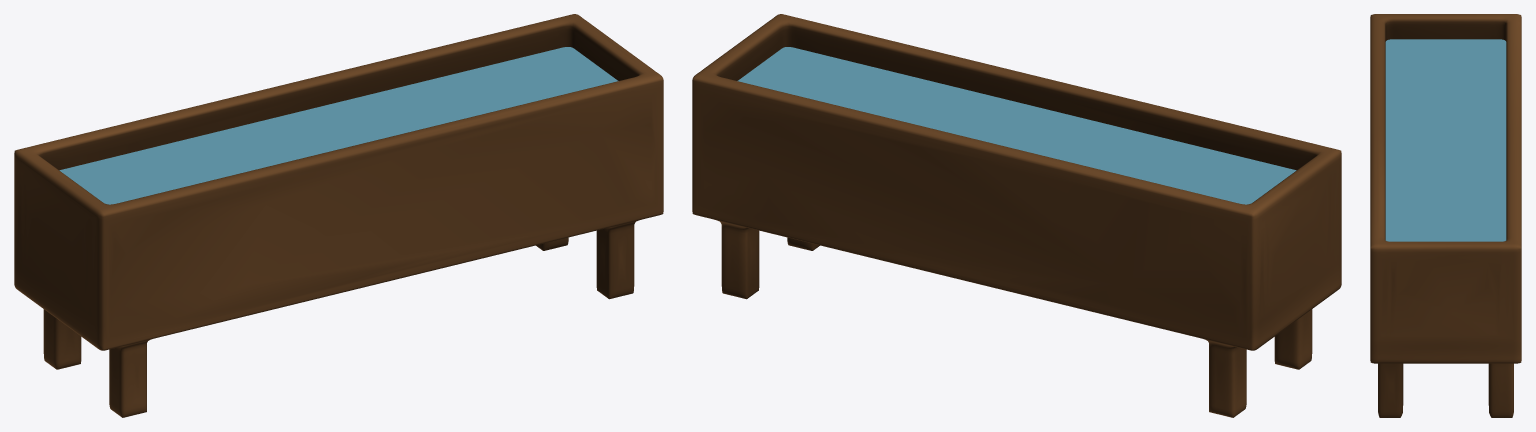
The model's file is trough.glb.
The picture shows the model from 3 angles, left to right: view 1: azimuth 30°, elevation 25°; view 2: azimuth 150°, elevation 25°; view 3: azimuth 270°, elevation 25°; orthographic projection. The views are drawn at different scales.
Visible parts, largest first — view 1: trough, Cube; view 2: trough, Cube; view 3: trough, Cube.
Boxes of the visible parts, box(x1,y1,x2,y2) form: trough: box(14, 14, 663, 417); Cube: box(59, 47, 618, 204); trough: box(692, 14, 1341, 417); Cube: box(737, 47, 1296, 204); trough: box(1370, 14, 1521, 417); Cube: box(1385, 39, 1506, 241).
Bounding box in the file's own units: 2.2 × 0.8002 × 0.6002.
